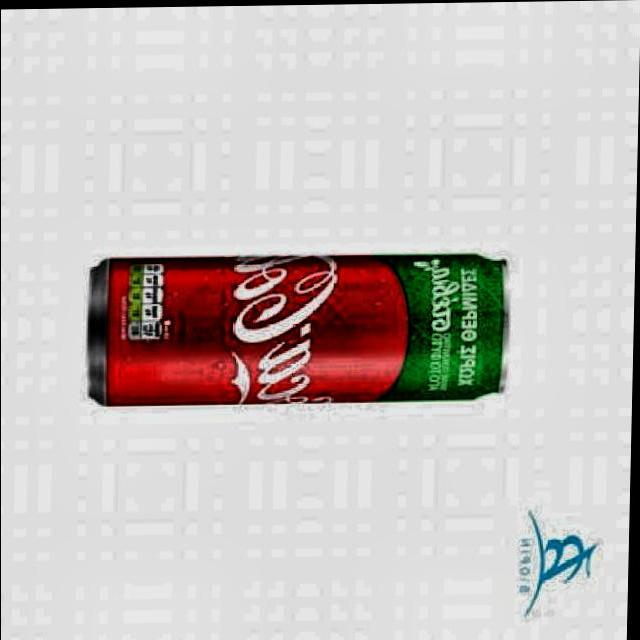litter: (81, 240, 522, 408)
